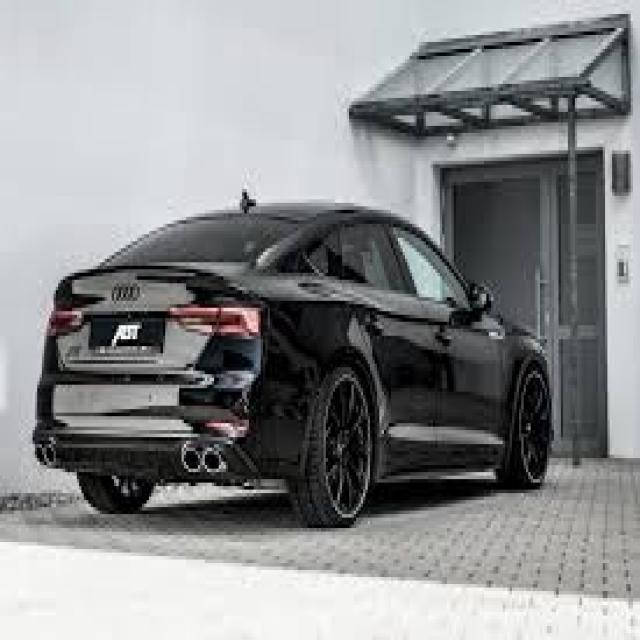black: (44, 199, 538, 510)
